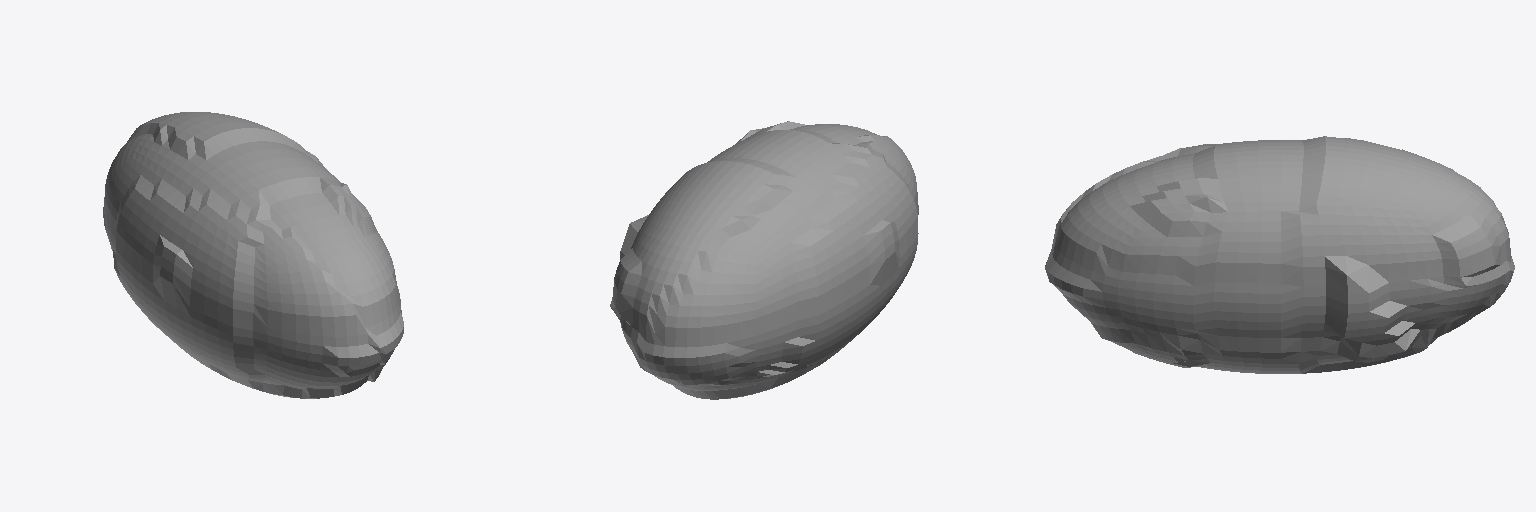
The model's file is Comet3.obj.
3 renders of one model, left to right at view 1: azimuth 30°, elevation 25°; view 2: azimuth 150°, elevation 25°; view 3: azimuth 270°, elevation 25°, orthographic.
Parts seen in each view (by area): view 1: Comet_3_Cube; view 2: Comet_3_Cube; view 3: Comet_3_Cube.
Boxes of the visible parts, x1=… form: Comet_3_Cube: x1=103, y1=112, x2=403, y2=398; Comet_3_Cube: x1=610, y1=121, x2=918, y2=399; Comet_3_Cube: x1=1045, y1=136, x2=1514, y2=373.
Size of the model in its own units: 3.92 by 3.85 by 7.5.